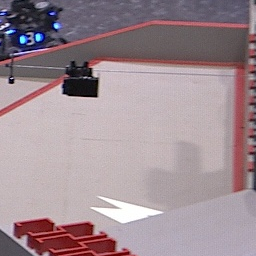Blue: (19, 31, 45, 45)
Robot: (1, 1, 71, 58)
